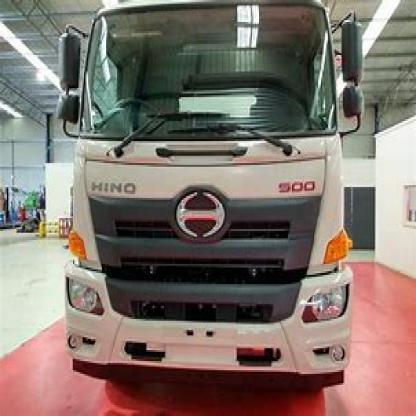dump_truck: (44, 0, 371, 398)
